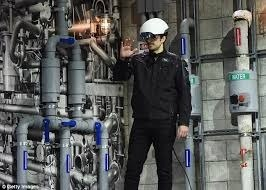helmet: (137, 16, 173, 39)
person with partial safety: (123, 17, 192, 190)
